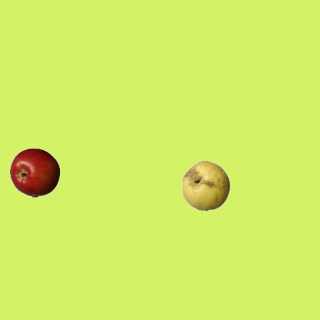Apple Braeburn: (9, 147, 59, 197)
Apple Golden 1: (180, 160, 230, 210)
